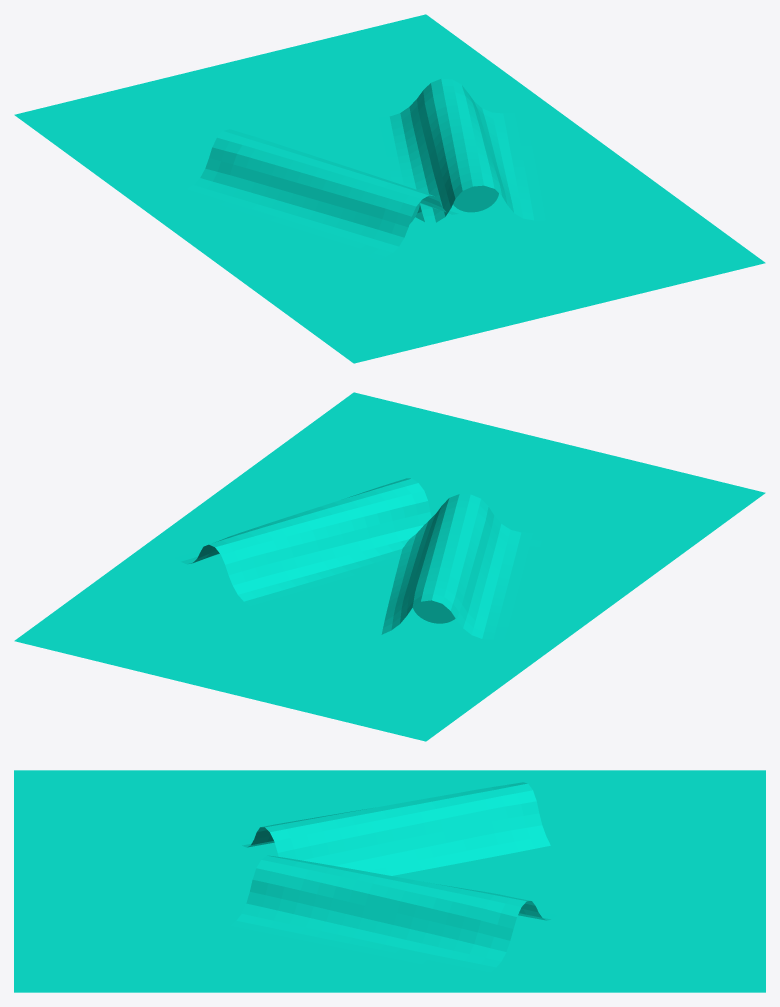
The model's file is Post Mortem Diorama.fbx.
The picture shows the model from 3 angles, top to bottom: view 1: azimuth 30°, elevation 25°; view 2: azimuth 150°, elevation 25°; view 3: azimuth 270°, elevation 25°; orthographic projection. The views are drawn at different scales.
Parts seen in each view (by area): view 1: Plane, Plane.001, Plane.002, Cylinder.001; view 2: Plane, Plane.001, Plane.002, Cylinder; view 3: Plane, Plane.002, Plane.001.
Boxes of the visible parts, box(x1,y1,x2,y2) form: Plane: box(14, 14, 765, 363); Plane.001: box(167, 129, 458, 264); Plane.002: box(378, 78, 545, 222); Cylinder.001: box(453, 185, 498, 212); Plane: box(14, 392, 765, 741); Plane.001: box(381, 494, 554, 641); Plane.002: box(168, 478, 431, 605); Cylinder: box(413, 600, 455, 623); Plane: box(14, 770, 765, 992); Plane.002: box(231, 855, 556, 976); Plane.001: box(227, 782, 550, 875).
Bounding box in the file's own units: 1400 × 122 × 2000.
